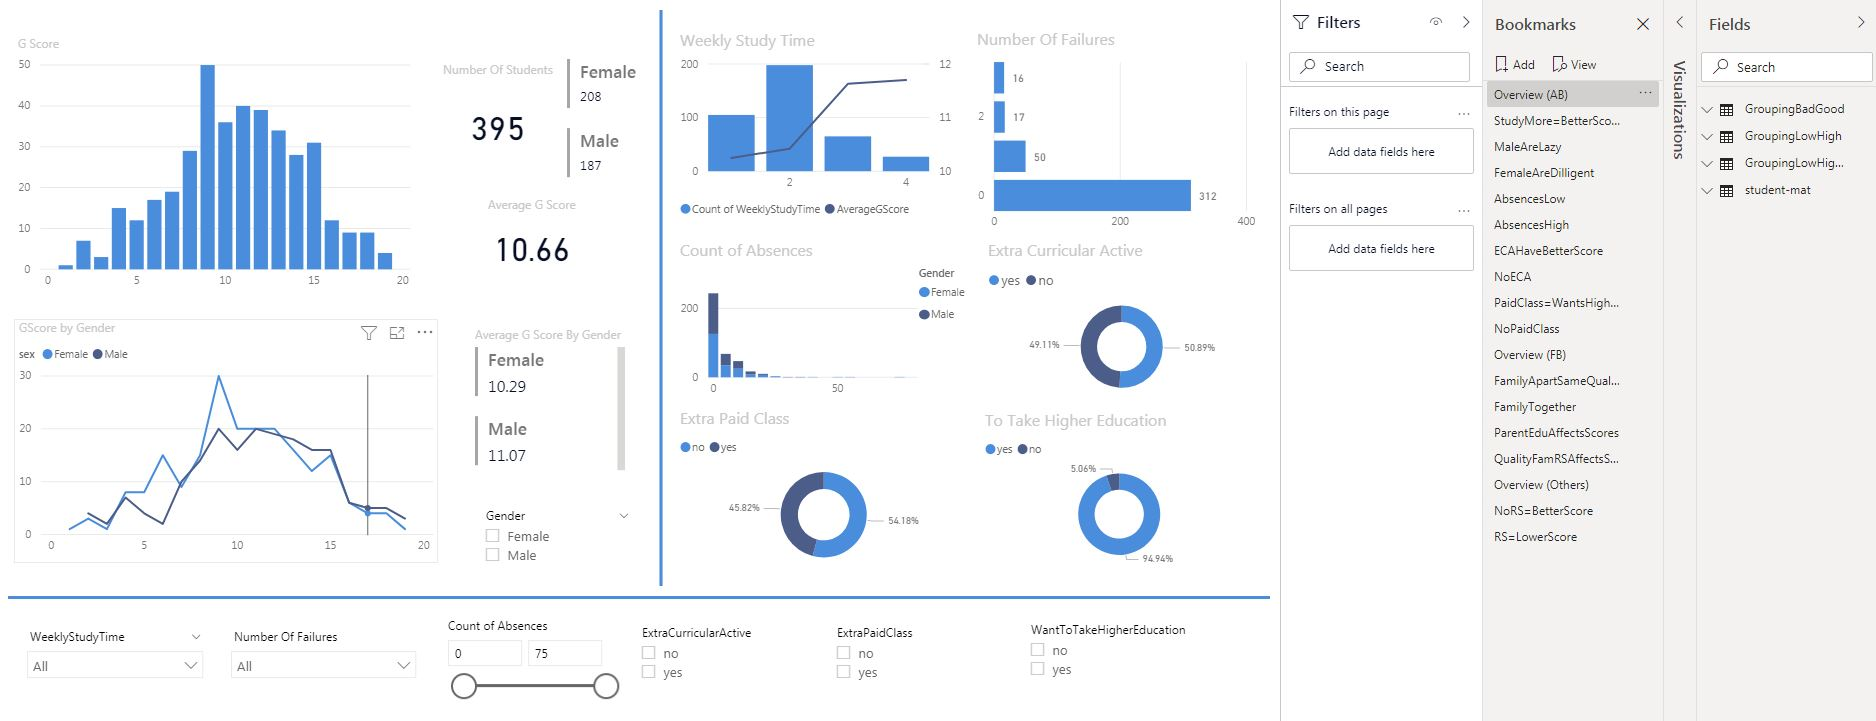

The dashboard page shown, as its layout file describes it:
{"tool":"powerbi","page":{"name":"G Score (Academic Behavior)","canvas":[1280,720],"ordinal":1},"visuals":[{"type":"clusteredColumnChart","title":"G Score","fields":{"Y":["CountNonNull(student-mat.AverageGScore)"],"Category":["student-mat.AverageGScore"]},"box":[14.6,35,401.7,262.6],"z":0},{"type":"lineChart","title":"GScore by Gender","fields":{"Category":["student-mat.AverageGScore"],"Y":["CountNonNull(student-mat.AverageGScore)"],"Series":["student-mat.sex"]},"box":[15.6,318.1,424.1,244.1],"z":1000},{"type":"card","title":"Average G Score","fields":{"Values":["Avg(student-mat.AverageGScore)"]},"box":[431.9,195.5,201.3,85.6],"z":2000},{"type":"multiRowCard","title":"Number Of Student Based On Sex","fields":{"Values":["student-mat.sex","CountNonNull(student-mat.sex)"]},"box":[563.2,53.5,91.4,150.8],"z":3000},{"type":"card","title":"Number Of Students","fields":{"Values":["CountNonNull(student-mat.sex)"]},"box":[439.6,61.3,119.6,112.8],"z":4000},{"type":"multiRowCard","title":"Average G Score By Gender","fields":{"Values":["student-mat.sex","Avg(student-mat.AverageGScore)"]},"box":[471.7,325.8,159.5,161.5],"z":5000},{"type":"lineClusteredColumnComboChart","title":"Weekly Study Time","fields":{"Category":["student-mat.studytime"],"Y":["CountNonNull(student-mat.WeeklyStudyTime)"],"Y2":["Avg(student-mat.AverageGScore)"]},"box":[675.5,29.3,280.8,197.4],"z":6000},{"type":"barChart","title":"Number Of Failures","fields":{"Y":["CountNonNull(student-mat.failures)"],"Category":["student-mat.failures"]},"box":[972.6,28.2,287.9,211.1],"z":7000},{"type":"donutChart","title":"Extra Paid Class","fields":{"Category":["student-mat.paid"],"Y":["CountNonNull(student-mat.paid)"]},"box":[676,406.6,296.7,167.3],"z":8000},{"type":"donutChart","title":"Extra Curricular Active","fields":{"Category":["student-mat.activities"],"Y":["CountNonNull(student-mat.activities)"]},"box":[983.3,238.3,277.2,165.3],"z":9000},{"type":"donutChart","title":"To Take Higher Education","fields":{"Category":["student-mat.higher"],"Y":["CountNonNull(student-mat.higher)"]},"box":[980.4,408.5,278.2,162.4],"z":10000},{"type":"basicShape","box":[654.6,0,13.6,595.3],"z":11000},{"type":"slicer","fields":{"Values":["student-mat.WeeklyStudyTime"]},"box":[19.5,622.5,196.5,75.9],"z":12000},{"type":"slicer","fields":{"Values":["student-mat.failures"]},"box":[222.7,622.5,205.2,75.9],"z":13000},{"type":"slicer","fields":{"Values":["student-mat.absences (bins)"]},"box":[436.7,610.8,191.6,100.2],"z":14000},{"type":"slicer","fields":{"Values":["student-mat.ExtraCurricularActive"]},"box":[630.3,617.6,215,87.5],"z":15000},{"type":"basicShape","box":[0,587.5,1280,14.6],"z":16000},{"type":"slicer","fields":{"Values":["student-mat.ExtraPaidClass"]},"box":[824.8,617.6,199.4,80.7],"z":17000},{"type":"slicer","fields":{"Values":["student-mat.WantToTakeHigherEducation"]},"box":[1018.4,614.7,261.6,90.5],"z":18000},{"type":"slicer","fields":{"Values":["student-mat.sex"]},"box":[474.7,500.9,168.3,72],"z":19000},{"type":"columnChart","title":"Count of Absences","fields":{"Category":["student-mat.absences (bins)"],"Y":["CountNonNull(student-mat.absences)"],"Series":["student-mat.sex"]},"box":[676,238.3,304.4,167.3],"z":20000}]}

Visuals, with their boxes on the page's 1280x720 design canvas (x1, y1, x2, y2). These are canvas units, not pixel positions in the 1876x721 screenshot, which may show the page scaled, cropped or inside an application window:
"G Score" clusteredColumnChart: box(15, 35, 416, 298)
"GScore by Gender" lineChart: box(16, 318, 440, 562)
"Average G Score" card: box(432, 196, 633, 281)
"Number Of Student Based On Sex" multiRowCard: box(563, 54, 655, 204)
"Number Of Students" card: box(440, 61, 559, 174)
"Average G Score By Gender" multiRowCard: box(472, 326, 631, 487)
"Weekly Study Time" lineClusteredColumnComboChart: box(676, 29, 956, 227)
"Number Of Failures" barChart: box(973, 28, 1260, 239)
"Extra Paid Class" donutChart: box(676, 407, 973, 574)
"Extra Curricular Active" donutChart: box(983, 238, 1260, 404)
"To Take Higher Education" donutChart: box(980, 408, 1259, 571)
basicShape: box(655, 0, 668, 595)
slicer - student-mat.WeeklyStudyTime: box(20, 622, 216, 698)
slicer - student-mat.failures: box(223, 622, 428, 698)
slicer - student-mat.absences (bins): box(437, 611, 628, 711)
slicer - student-mat.ExtraCurricularActive: box(630, 618, 845, 705)
basicShape: box(0, 588, 1280, 602)
slicer - student-mat.ExtraPaidClass: box(825, 618, 1024, 698)
slicer - student-mat.WantToTakeHigherEducation: box(1018, 615, 1280, 705)
slicer - student-mat.sex: box(475, 501, 643, 573)
"Count of Absences" columnChart: box(676, 238, 980, 406)
